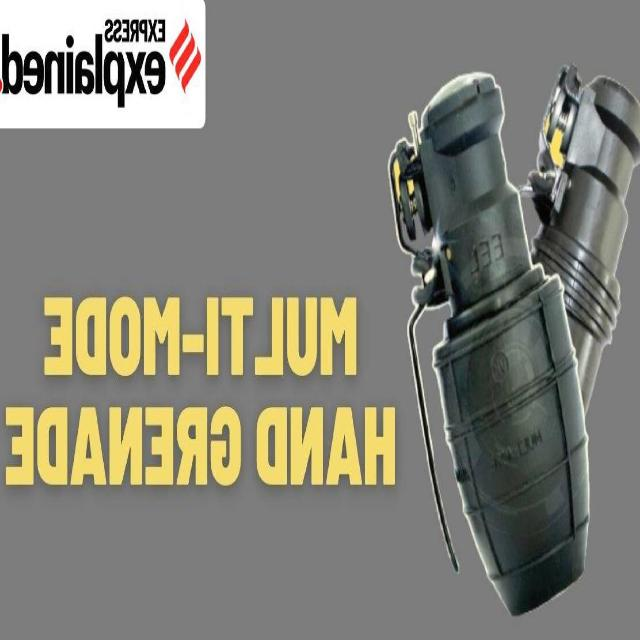grenade: (388, 72, 591, 618), (530, 63, 640, 422)
